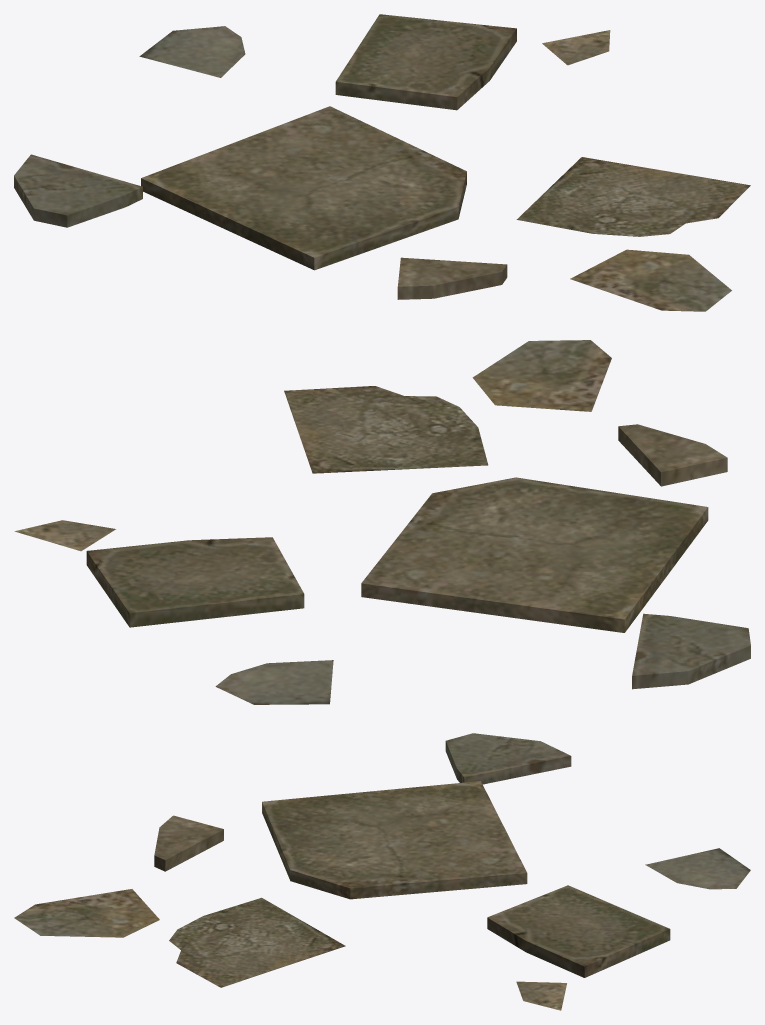
The model's file is bg_anh_gvalley_floore01_05_sm_old.FBX.
3 renders of one model, top to bottom at view 1: azimuth 30°, elevation 25°; view 2: azimuth 150°, elevation 25°; view 3: azimuth 270°, elevation 25°, orthographic. The views are drawn at different scales.
Parts seen in each view (by area): view 1: bg_anh_gvalley_floore01_05_sm_old; view 2: bg_anh_gvalley_floore01_05_sm_old; view 3: bg_anh_gvalley_floore01_05_sm_old.
Part boxes in pixels (x1=…): bg_anh_gvalley_floore01_05_sm_old: x1=14, y1=14, x2=750, y2=311; bg_anh_gvalley_floore01_05_sm_old: x1=14, y1=340, x2=750, y2=704; bg_anh_gvalley_floore01_05_sm_old: x1=14, y1=733, x2=750, y2=1010.
Size of the model in its own units: 170 by 3.39 by 197.
